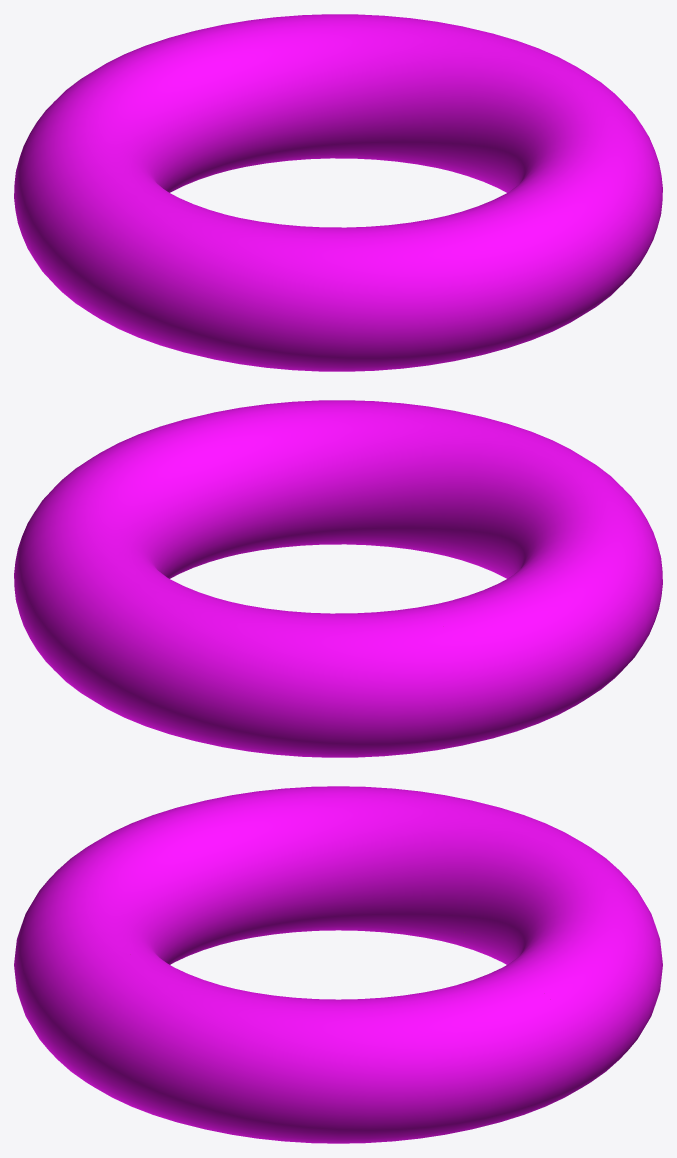
The model's file is torus_smoothed.glb.
The picture shows the model from 3 angles, top to bottom: view 1: azimuth 30°, elevation 25°; view 2: azimuth 150°, elevation 25°; view 3: azimuth 270°, elevation 25°; orthographic projection.
Parts seen in each view (by area): view 1: Torus.081, Torus.101, Torus.093, Torus.007, Torus.105, Torus.034, Torus.104, Torus.089, Torus.095, Torus.118, Torus.058, Torus.052 (+51 smaller); view 2: Torus.061, Torus.124, Torus.054, Torus.109, Torus.007, Torus.072, Torus.118, Torus.105, Torus.098, Torus.064, Torus.081, Torus.045 (+50 smaller); view 3: Torus.002, Torus.120, Torus.071, Torus.021, Torus.082, Torus.078, Torus.062, Torus.058, Torus.013, Torus.006, Torus.067, Torus.105 (+52 smaller).
Part boxes in pixels (x1=…): Torus.081: x1=90, y1=207, x2=209, y2=329; Torus.101: x1=358, y1=249, x2=498, y2=355; Torus.093: x1=311, y1=256, x2=411, y2=360; Torus.007: x1=470, y1=53, x2=573, y2=137; Torus.105: x1=426, y1=201, x2=543, y2=280; Torus.034: x1=274, y1=49, x2=343, y2=136; Torus.104: x1=447, y1=271, x2=547, y2=361; Torus.089: x1=180, y1=315, x2=327, y2=366; Torus.095: x1=329, y1=227, x2=448, y2=279; Torus.118: x1=522, y1=105, x2=630, y2=180; Torus.058: x1=95, y1=76, x2=190, y2=187; Torus.052: x1=88, y1=38, x2=212, y2=91; Torus.061: x1=351, y1=621, x2=459, y2=729; Torus.124: x1=169, y1=435, x2=313, y2=528; Torus.054: x1=231, y1=639, x2=354, y2=708; Torus.109: x1=302, y1=407, x2=397, y2=495; Torus.007: x1=88, y1=440, x2=195, y2=519; Torus.072: x1=525, y1=595, x2=611, y2=697; Torus.118: x1=159, y1=403, x2=321, y2=460; Torus.105: x1=392, y1=407, x2=512, y2=489; Torus.098: x1=402, y1=442, x2=482, y2=539; Torus.064: x1=440, y1=615, x2=526, y2=699; Torus.081: x1=593, y1=512, x2=662, y2=608; Torus.045: x1=163, y1=609, x2=250, y2=679; Torus.002: x1=221, y1=995, x2=373, y2=1086; Torus.120: x1=85, y1=991, x2=237, y2=1076; Torus.071: x1=331, y1=809, x2=439, y2=887; Torus.021: x1=513, y1=984, x2=576, y2=1112; Torus.082: x1=232, y1=786, x2=335, y2=868; Torus.078: x1=249, y1=825, x2=346, y2=909; Torus.062: x1=436, y1=808, x2=555, y2=891; Torus.058: x1=451, y1=835, x2=563, y2=932; Torus.013: x1=405, y1=1076, x2=515, y2=1134; Torus.006: x1=360, y1=1008, x2=435, y2=1108; Torus.067: x1=362, y1=866, x2=470, y2=947; Torus.105: x1=21, y1=883, x2=155, y2=970.
Bounding box in the file's own units: 17 × 3.78 × 17.
1 material, 1 textured.
